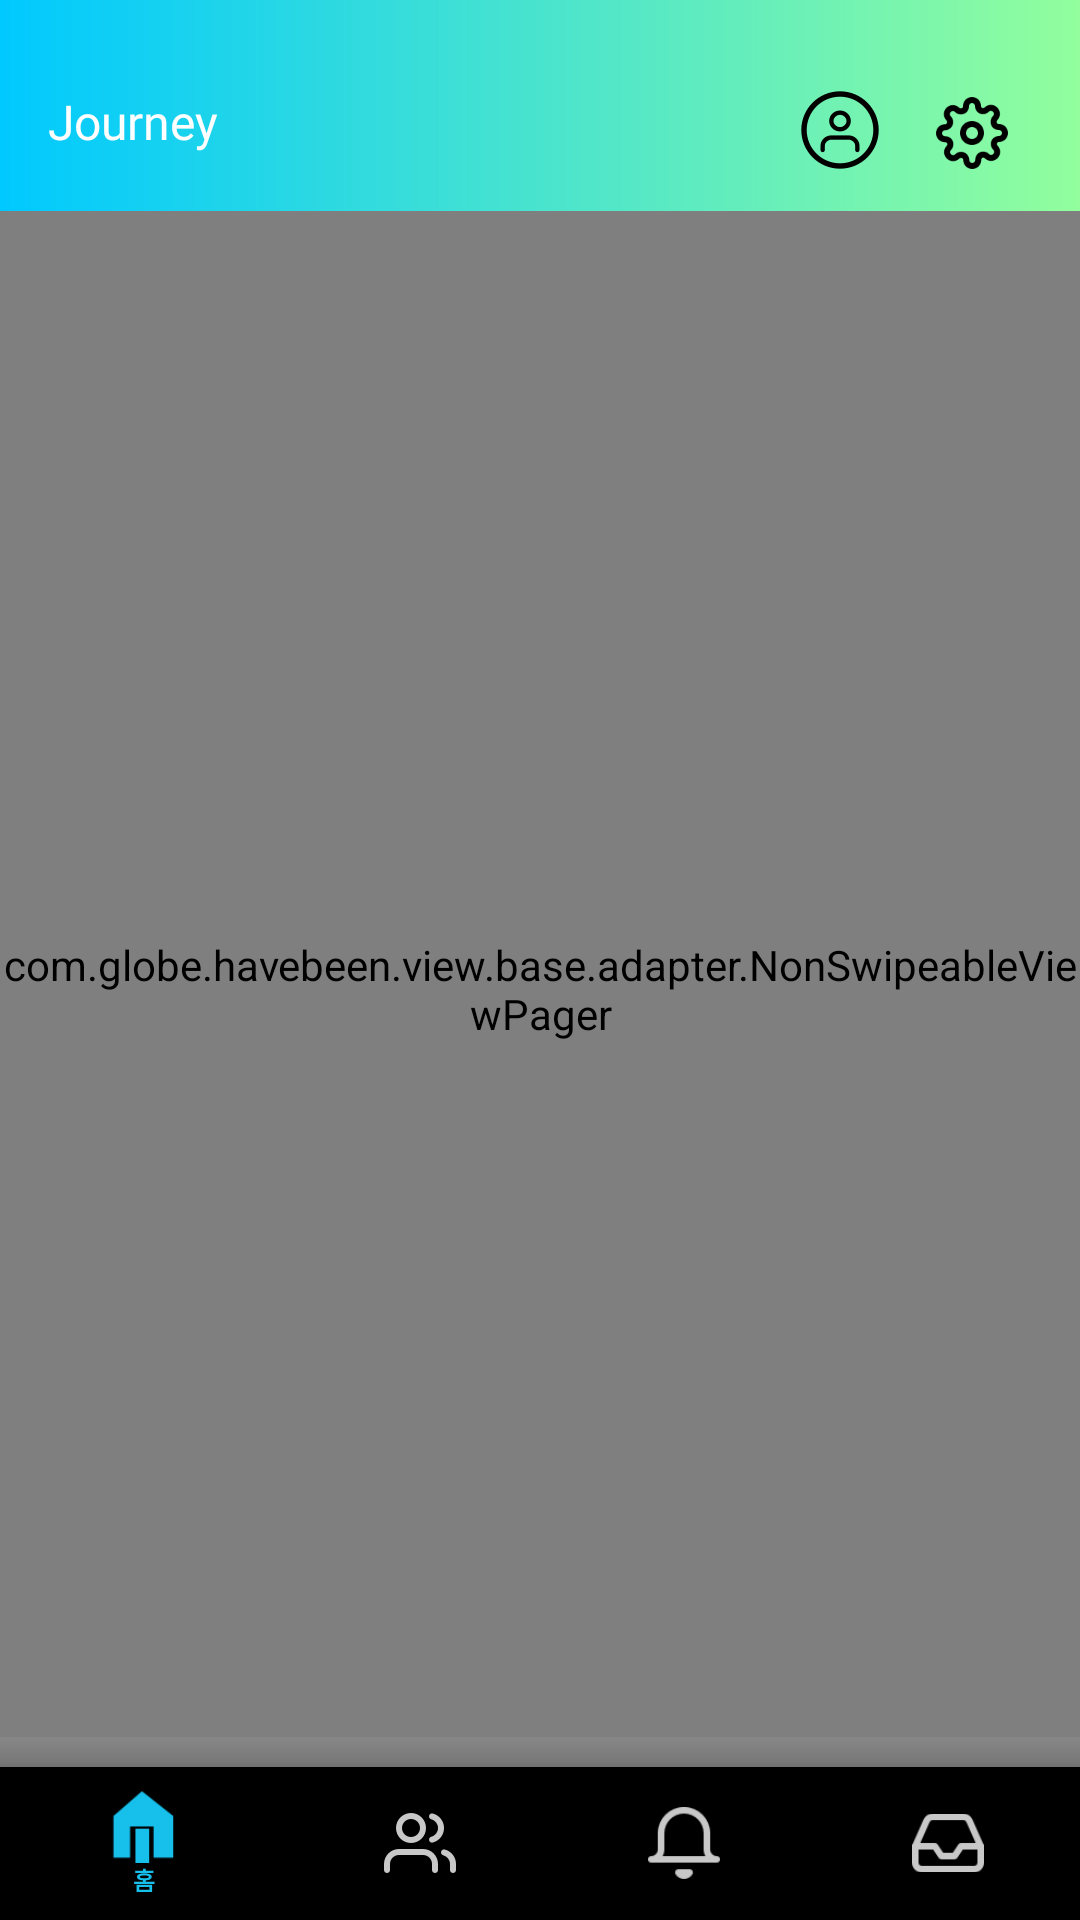

Screen size 1080px x 1920px. Icon name, then its center in pixels as point (x, y):
profile: point (840, 130)
settings: point (972, 133)
